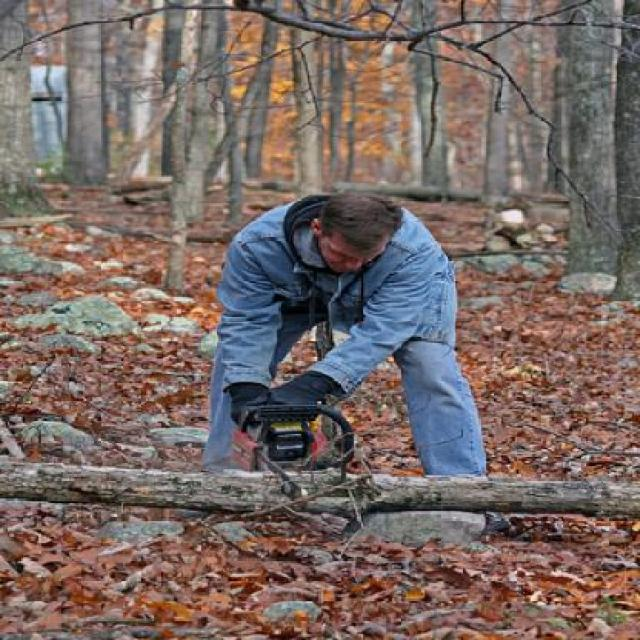Chainsaw: (231, 403, 354, 500)
